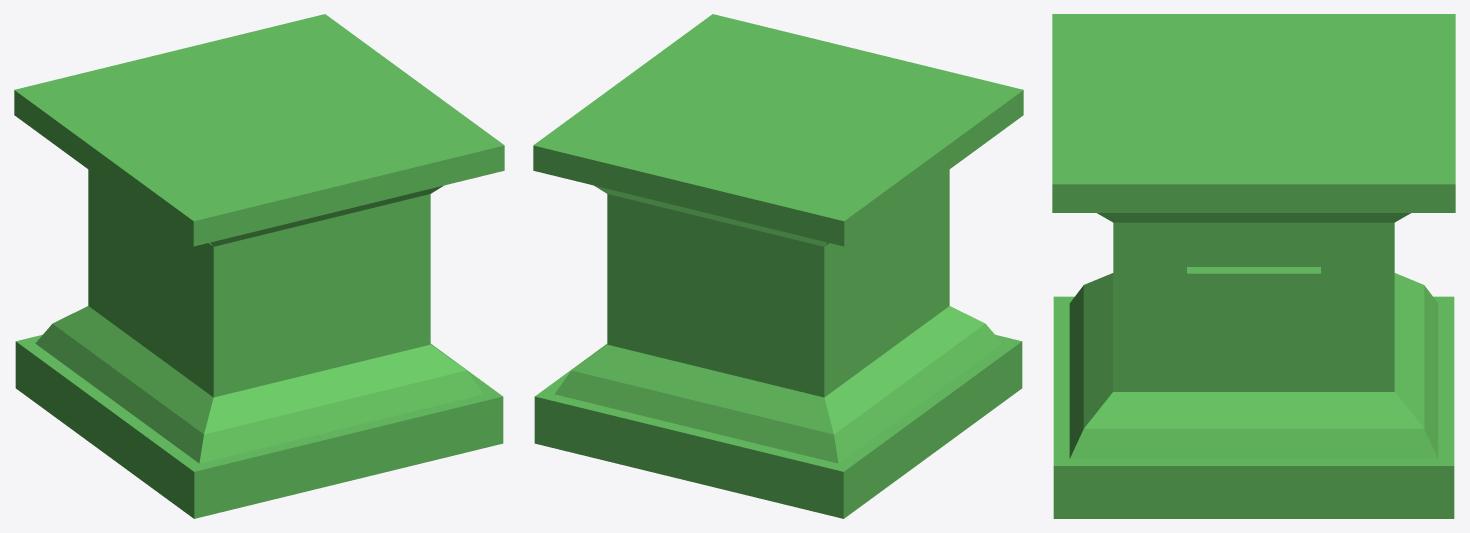
Rendered from statue stand.glb.
The picture shows the model from 3 angles, left to right: view 1: azimuth 30°, elevation 25°; view 2: azimuth 150°, elevation 25°; view 3: azimuth 270°, elevation 25°; orthographic projection. The views are drawn at different scales.
Visible parts, largest first — view 1: Cube; view 2: Cube; view 3: Cube.
Part boxes in pixels (box(x1,y1,x2,y2)): Cube: box(14, 14, 504, 518); Cube: box(533, 14, 1023, 518); Cube: box(1052, 14, 1455, 518).
Size of the model in its own units: 3.03 by 2.77 by 3.03.
